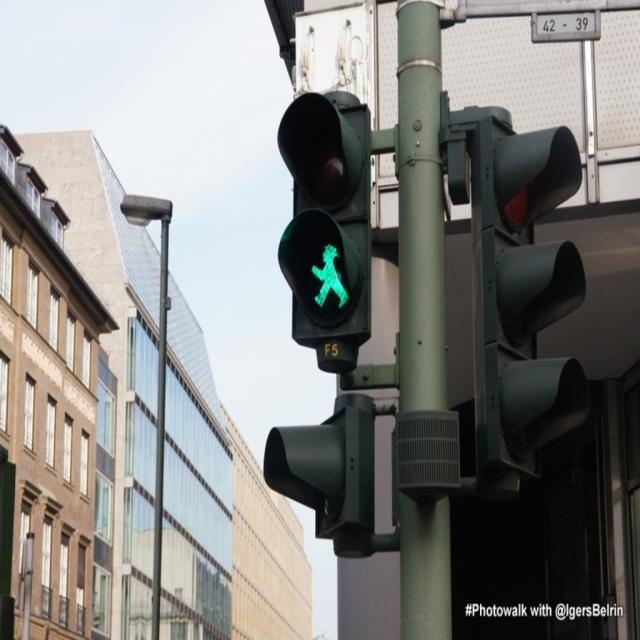traffic light: (475, 115, 592, 477), (274, 88, 368, 340)
